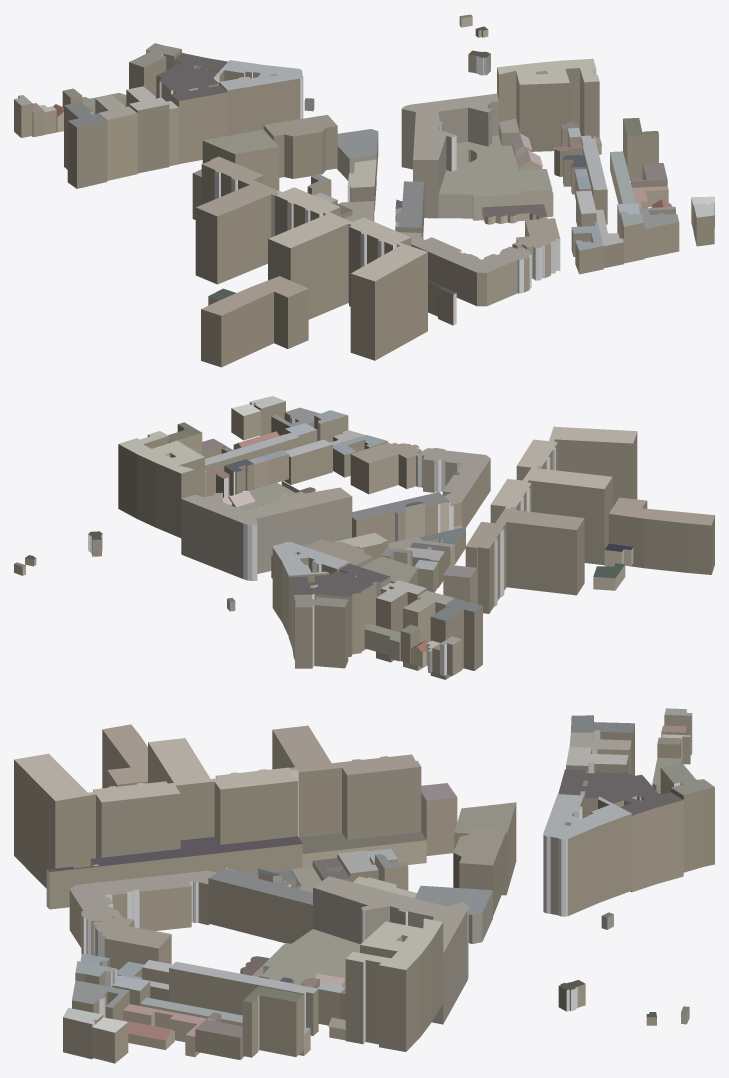
3 views of the same model, one above another, from view 1: azimuth 30°, elevation 25°; view 2: azimuth 150°, elevation 25°; view 3: azimuth 270°, elevation 25° (orthographic). The views are drawn at different scales.
Visible parts, largest first — view 1: tuile; view 2: tuile; view 3: tuile.
Boxes of the visible parts, <box> form: tuile: <box>14,14,714,367</box>; tuile: <box>14,396,714,679</box>; tuile: <box>14,708,714,1063</box>.
Bounding box in the file's own units: 281 × 50.76 × 276.
